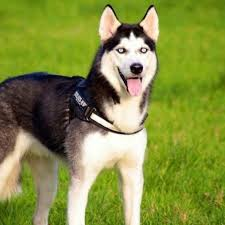Siberian Husky: (11, 4, 172, 225)
